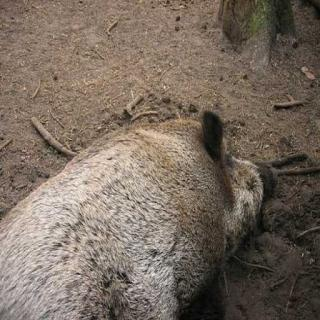Pig: (0, 104, 295, 310)
